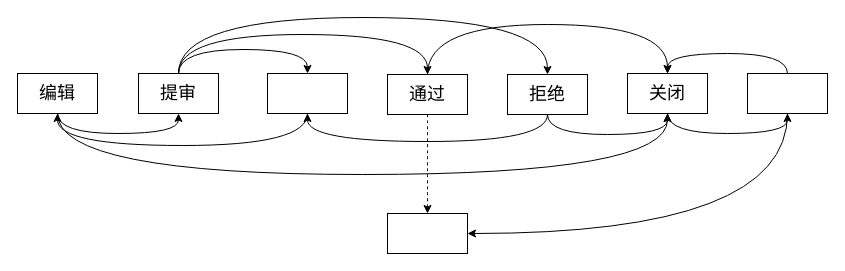
The diagram is 845 pixels wide and 271 high, and some of its shapes have lost their labels. The centre of each missing label's shape, as x and y in pixels:
"开启" belongs at point (787, 93).
"撤审" belongs at point (307, 93).
"活动中" belongs at point (427, 233).
